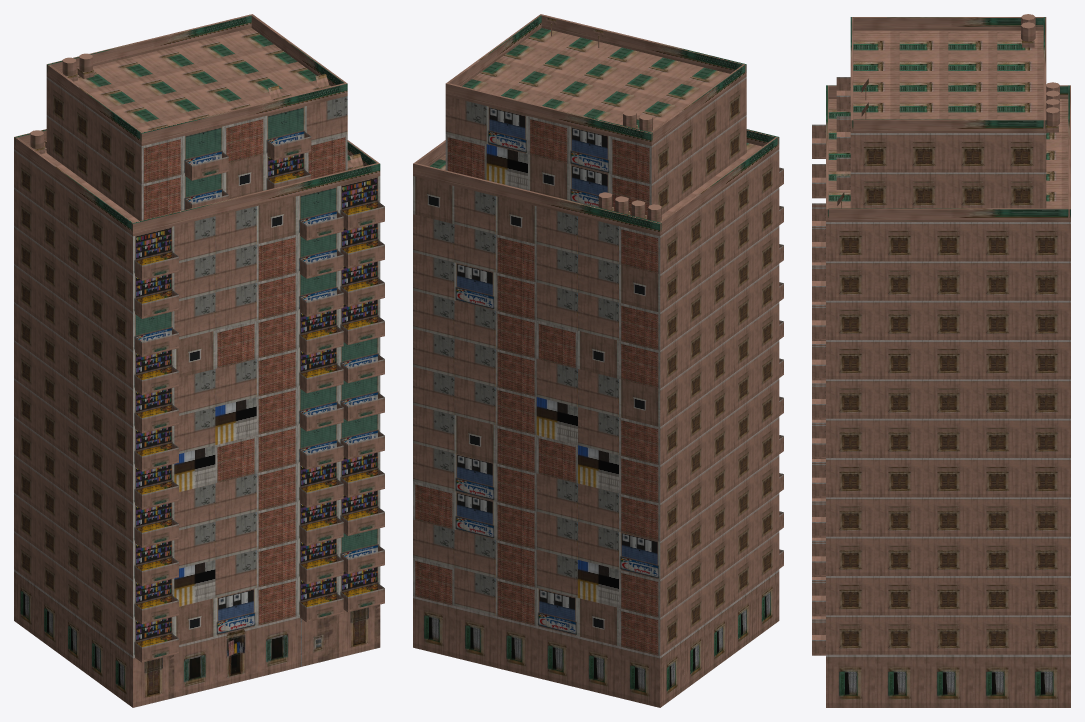
The picture shows the model from 3 angles, left to right: view 1: azimuth 30°, elevation 25°; view 2: azimuth 150°, elevation 25°; view 3: azimuth 270°, elevation 25°; orthographic projection. The views are drawn at different scales.
Visible parts, largest first — view 1: Plaster_6x5_f11_v1, Plaster_5x4_f13_v0; view 2: Plaster_6x5_f11_v1, Plaster_5x4_f13_v0; view 3: Plaster_6x5_f11_v1, Plaster_5x4_f13_v0.
Boxes of the visible parts, left/top/right/bottom form: Plaster_6x5_f11_v1: left=14, top=129, right=384, bottom=707; Plaster_5x4_f13_v0: left=46, top=14, right=347, bottom=220; Plaster_6x5_f11_v1: left=413, top=129, right=783, bottom=707; Plaster_5x4_f13_v0: left=445, top=14, right=746, bottom=219; Plaster_6x5_f11_v1: left=812, top=82, right=1070, bottom=707; Plaster_5x4_f13_v0: left=836, top=14, right=1046, bottom=208.
Bounding box in the file's own units: 21 × 46.05 × 18.5.
Materials: 1 (1 with a texture image).
